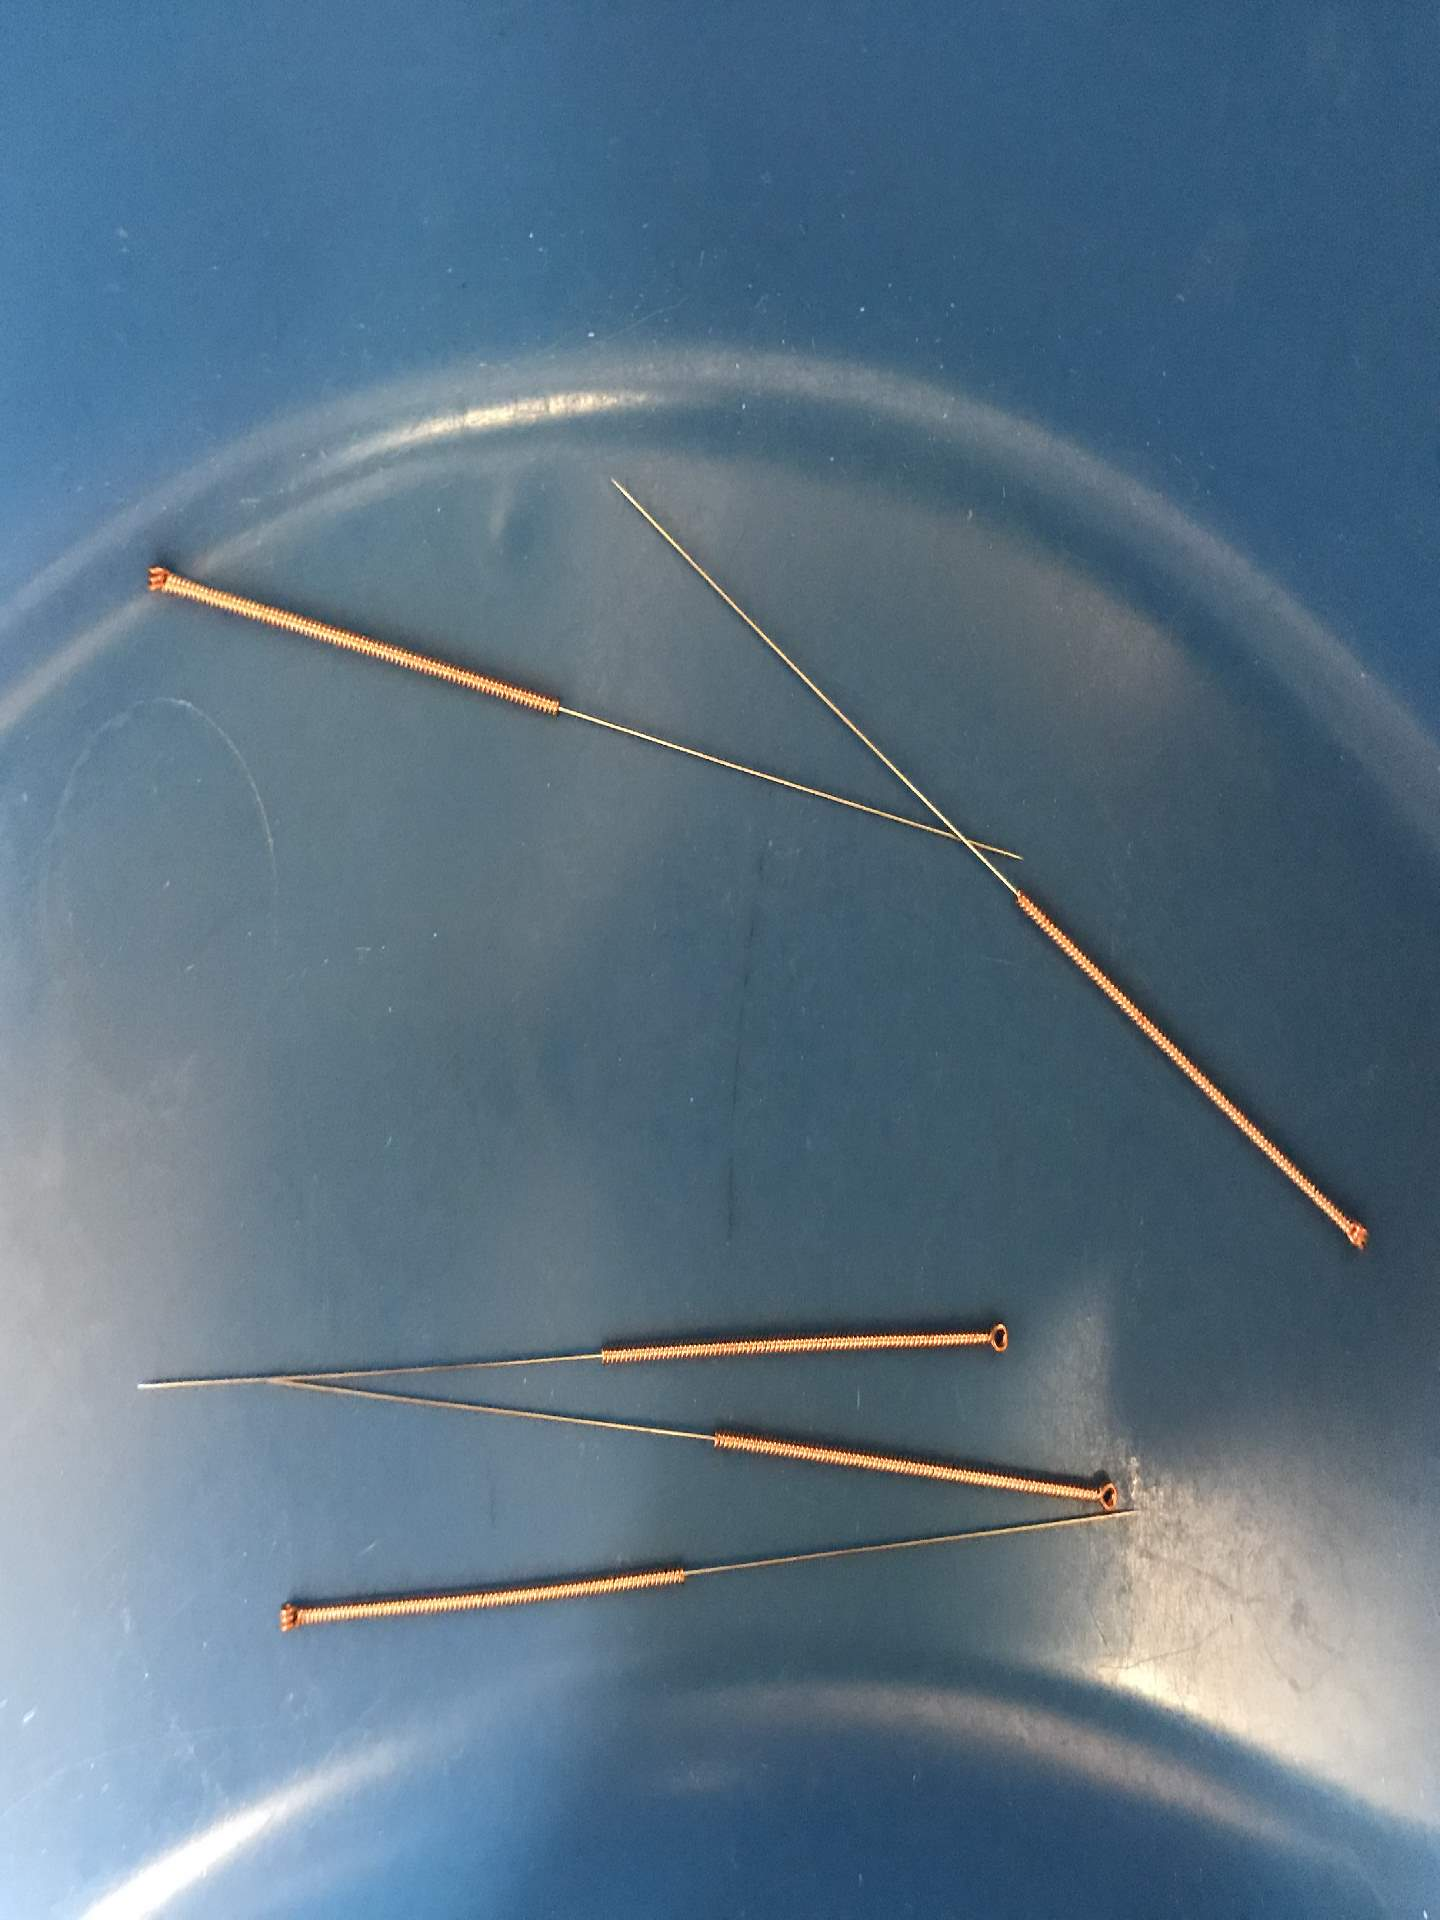needle: (129, 550, 182, 614), (1327, 1200, 1378, 1264), (967, 1306, 1019, 1367), (1075, 1463, 1127, 1524), (262, 1592, 312, 1645)
